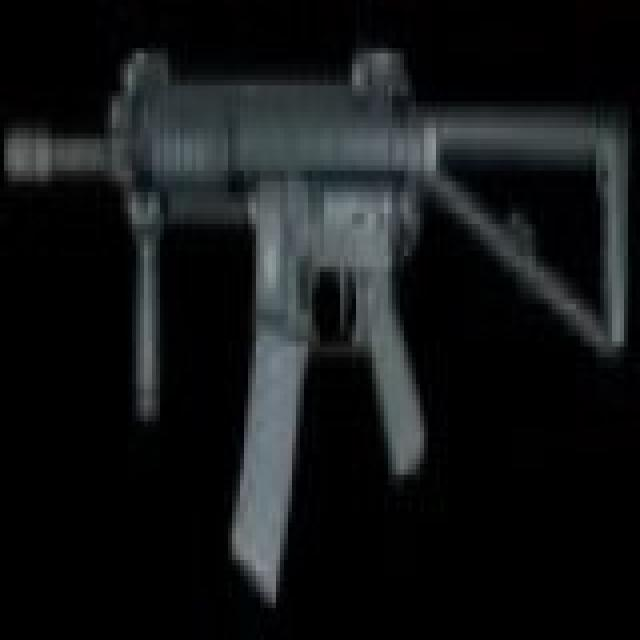Gun: (15, 49, 625, 604)
